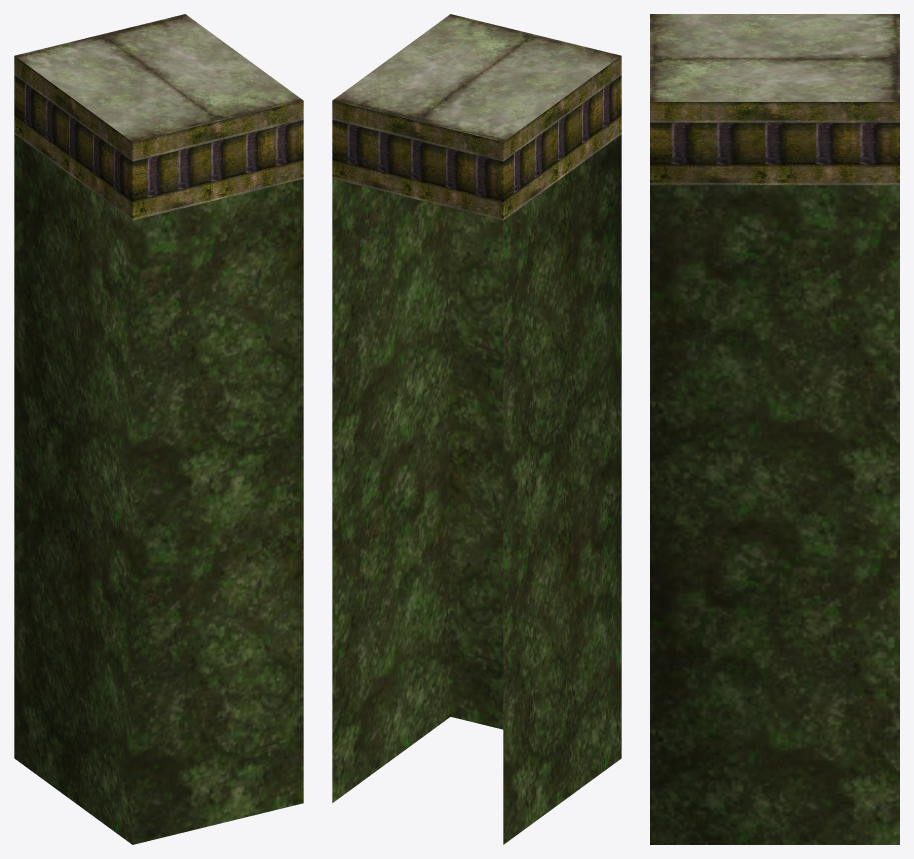
The model's file is ANIMATEDINSTANCES_PLATFORM001_AI.obj.
3 renders of one model, left to right at view 1: azimuth 30°, elevation 25°; view 2: azimuth 150°, elevation 25°; view 3: azimuth 270°, elevation 25°, orthographic. The views are drawn at different scales.
Visible parts, largest first — view 1: Platform001_AI; view 2: Platform001_AI; view 3: Platform001_AI.
Boxes of the visible parts, x1,y1,x2,y2 form: Platform001_AI: (14,14,303,844); Platform001_AI: (332,14,621,844); Platform001_AI: (650,14,899,844).
Bounding box in the file's own units: 179 × 703 × 214.
